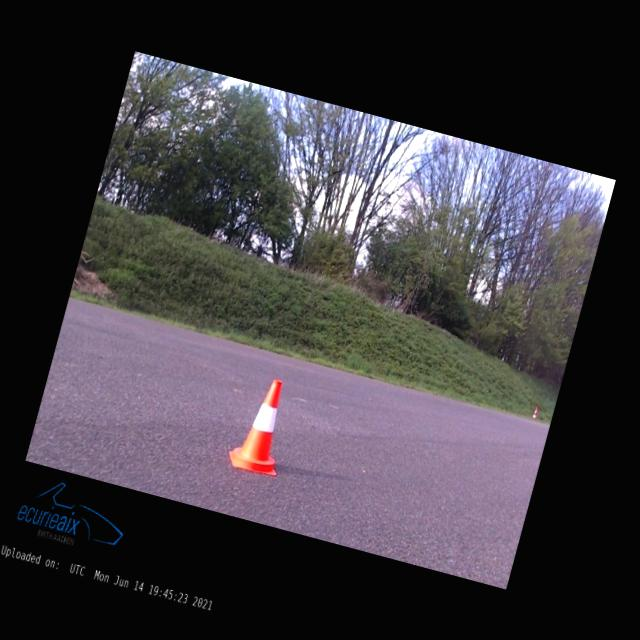large_orange_cone: (530, 404, 540, 421)
orange_cone: (225, 372, 300, 478)
